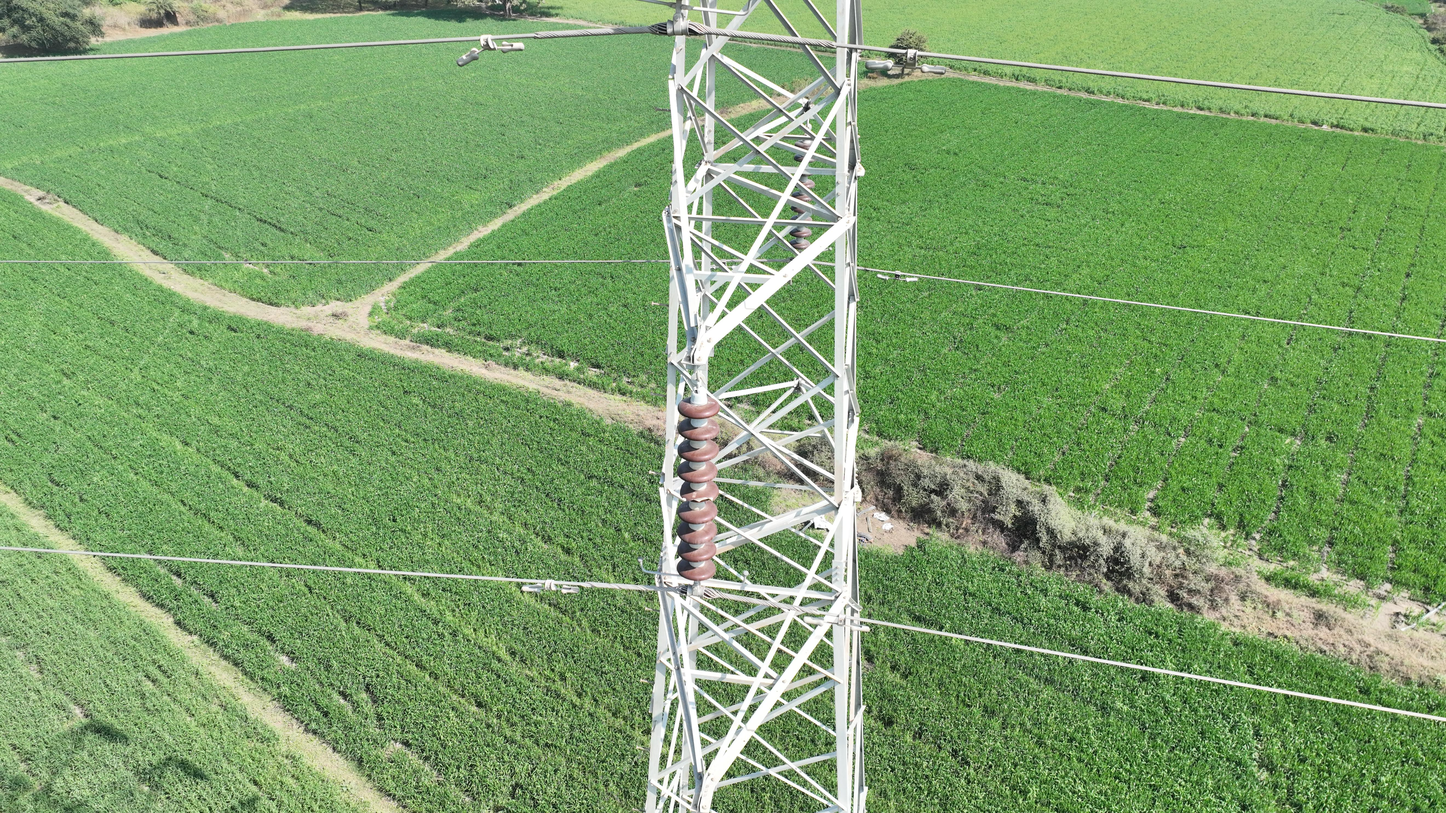broken_insulator: (679, 486, 721, 509)
